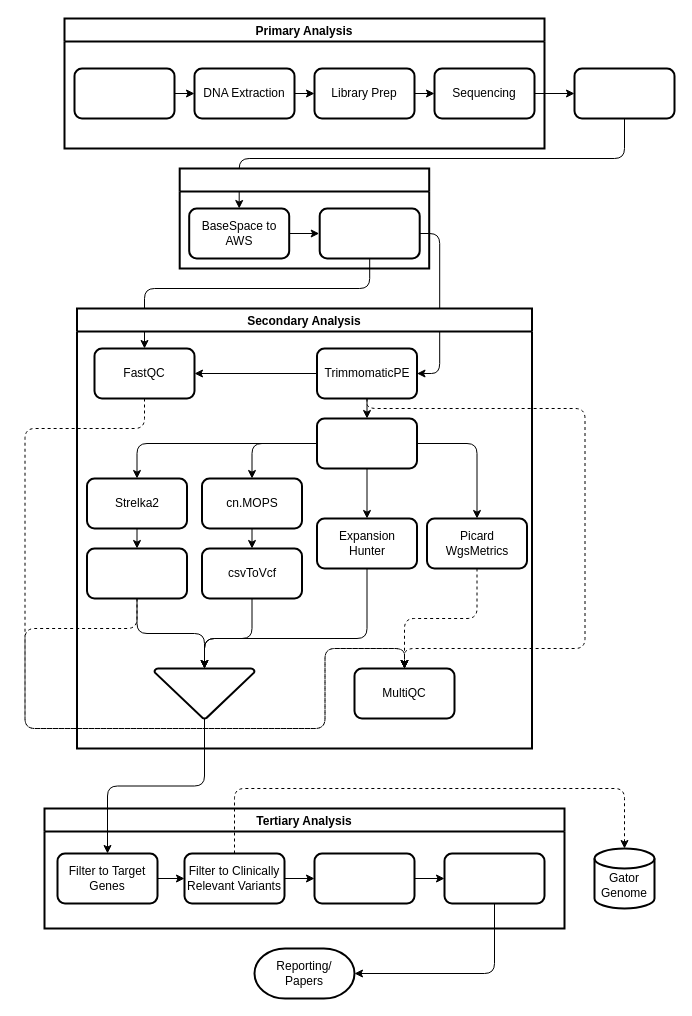
The diagram is 692 pixels wide and 1016 high, and some of its shapes have lost their labels. Here are the shapes that lost their labels. From the top down, the box of each, then its label:
(73, 67, 175, 119): Sample Accessioning
(573, 67, 675, 119): bcl2fastq
(178, 167, 430, 269): Data Handling
(318, 207, 420, 259): Group Reads
(316, 417, 418, 469): bwa mem & samtools
(86, 547, 188, 599): snpEff
(153, 667, 255, 719): Merge VCF
(313, 852, 415, 904): Generate Report Template
(443, 852, 545, 904): Visualize
